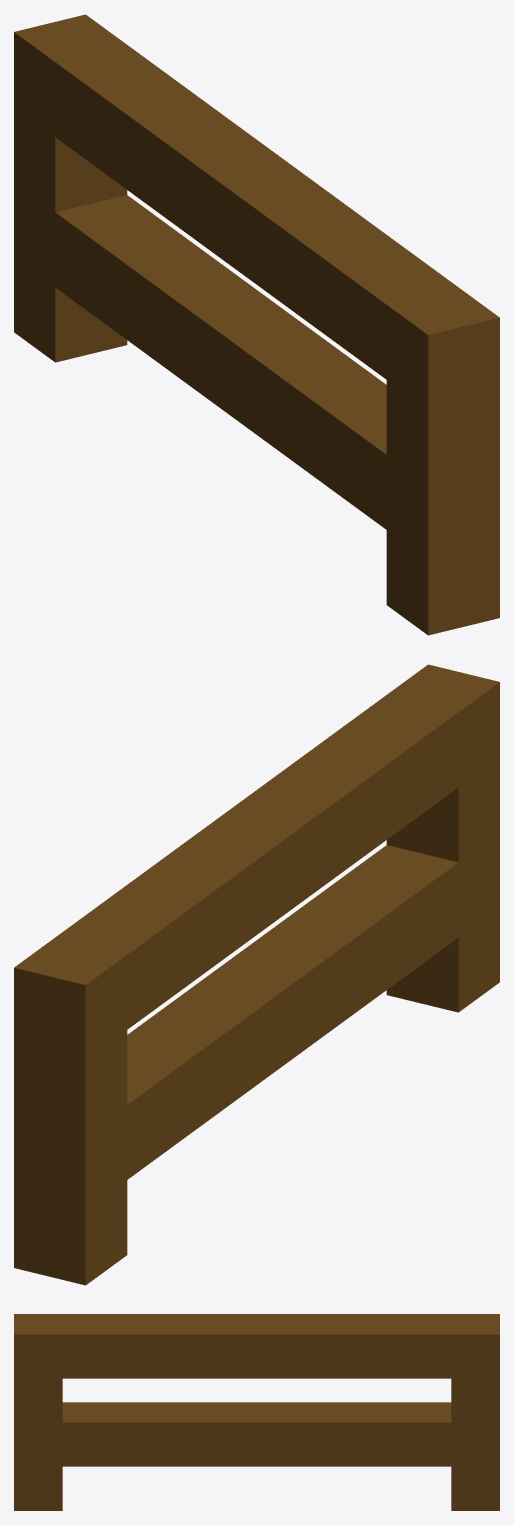
The model's file is fence.glb.
3 renders of one model, top to bottom at view 1: azimuth 30°, elevation 25°; view 2: azimuth 150°, elevation 25°; view 3: azimuth 270°, elevation 25°, orthographic. The views are drawn at different scales.
Parts seen in each view (by area): view 1: pl0; view 2: pl0; view 3: pl0.
Part boxes in pixels (left/top/right/bottom): pl0: left=14, top=14, right=499, bottom=635; pl0: left=14, top=664, right=499, bottom=1285; pl0: left=14, top=1314, right=499, bottom=1510.
Size of the model in its own units: 1 by 4 by 10.
1 material, 1 textured.
